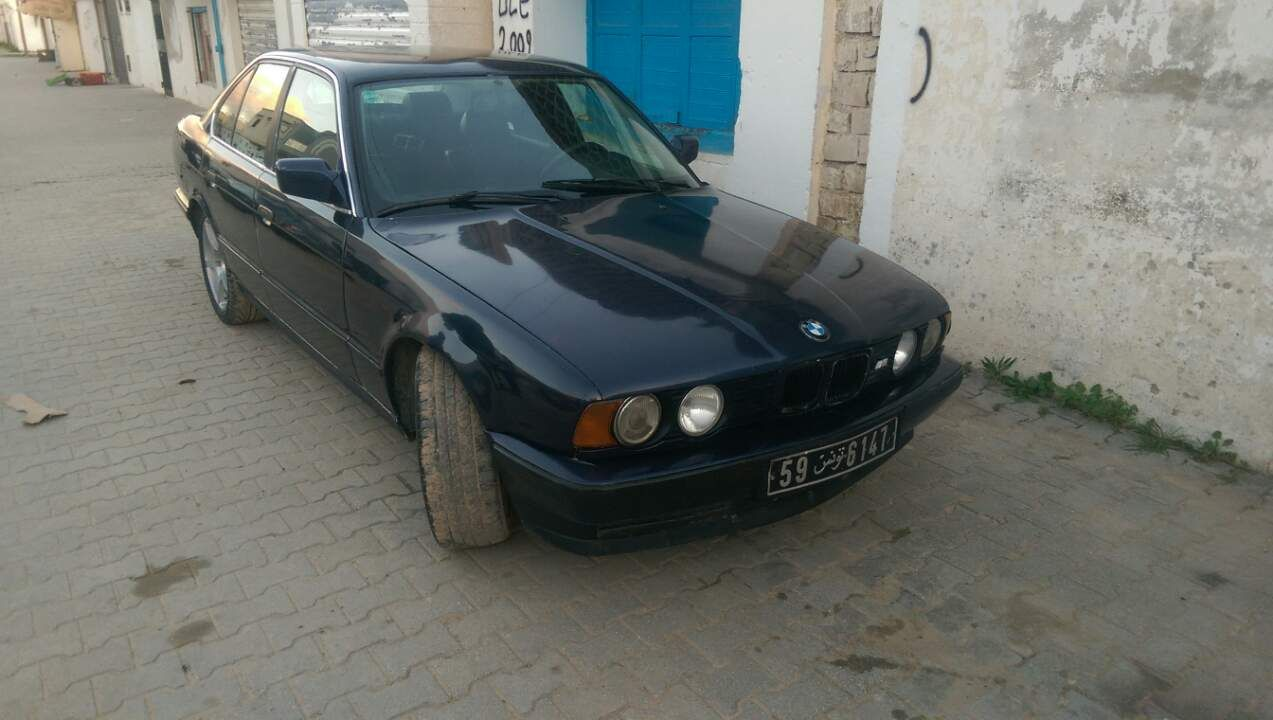LP: (768, 417, 896, 495)
